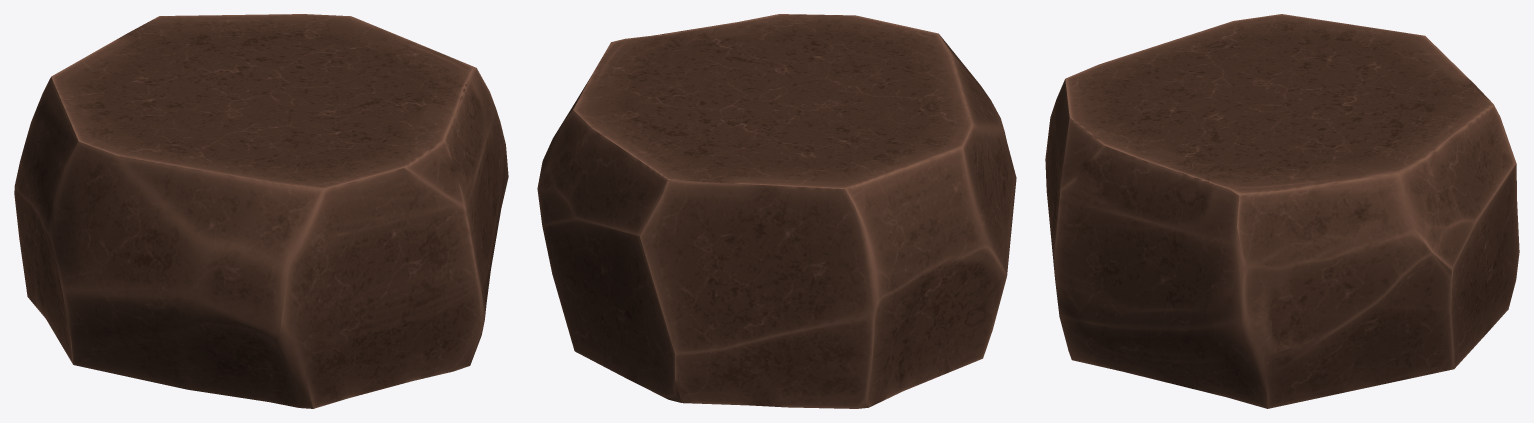
3 views of the same model, side by side, from view 1: azimuth 30°, elevation 25°; view 2: azimuth 150°, elevation 25°; view 3: azimuth 270°, elevation 25° (orthographic). The views are drawn at different scales.
Parts seen in each view (by area): view 1: PM3D_Sphere3D_low; view 2: PM3D_Sphere3D_low; view 3: PM3D_Sphere3D_low.
Boxes of the visible parts, x1=… form: PM3D_Sphere3D_low: x1=14, y1=14, x2=508, y2=408; PM3D_Sphere3D_low: x1=537, y1=14, x2=1016, y2=408; PM3D_Sphere3D_low: x1=1045, y1=14, x2=1519, y2=408.
Size of the model in its own units: 1.92 by 0.8965 by 1.83.
1 material, 1 textured.
